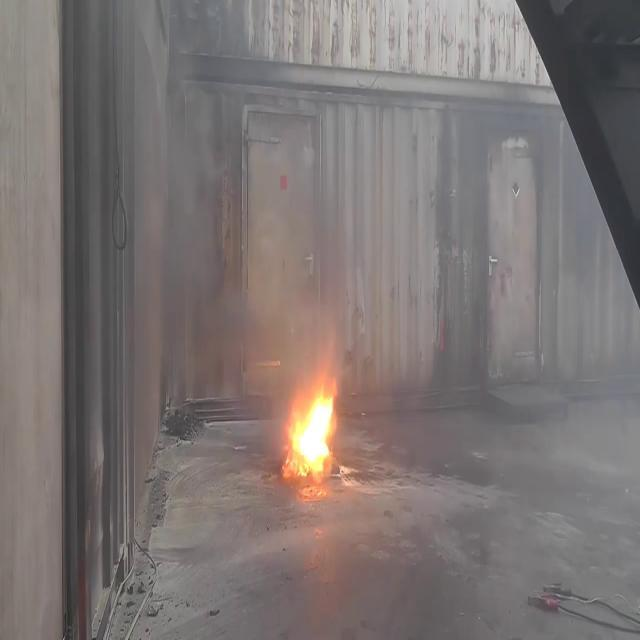Fire: (288, 376, 338, 480)
Smoke: (131, 22, 263, 426)
